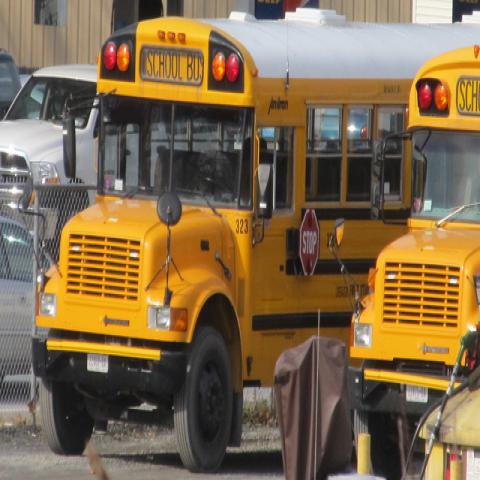bus: (17, 8, 479, 475), (333, 41, 479, 476)
car: (2, 216, 54, 390)
truck: (0, 63, 101, 187)
